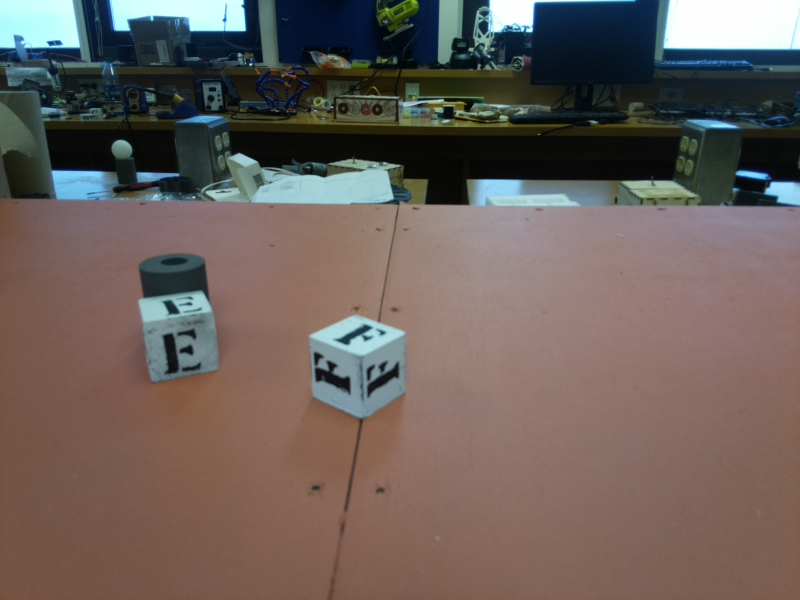blockE: (140, 290, 216, 388)
blockF: (309, 315, 415, 414)
